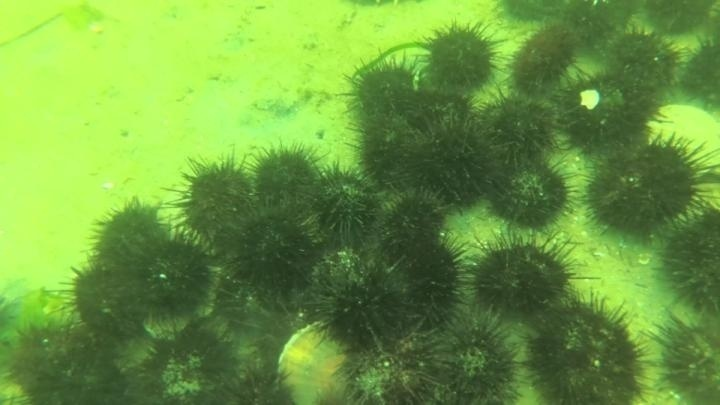echinus: (519, 292, 654, 405), (580, 134, 717, 245), (302, 246, 423, 356), (361, 235, 472, 342), (4, 316, 128, 405), (464, 230, 580, 325), (421, 306, 525, 404), (335, 319, 452, 404), (164, 151, 261, 253), (224, 203, 322, 300), (400, 111, 498, 206), (338, 111, 436, 206), (556, 67, 658, 157), (137, 321, 244, 404), (129, 229, 219, 320), (63, 259, 156, 343), (655, 202, 719, 322), (473, 89, 559, 172), (484, 157, 574, 233), (86, 196, 169, 276), (651, 308, 719, 404), (235, 297, 316, 376), (306, 162, 382, 246), (245, 140, 326, 218), (418, 19, 502, 94), (344, 54, 428, 124), (602, 25, 683, 95), (377, 185, 451, 259), (507, 23, 580, 95), (393, 84, 477, 138), (215, 360, 300, 405), (676, 34, 720, 113), (638, 1, 717, 38), (560, 1, 620, 46), (495, 1, 559, 26)
holothurian: (655, 202, 720, 323)
scallop: (273, 322, 352, 405), (642, 101, 720, 176), (435, 196, 515, 269)
